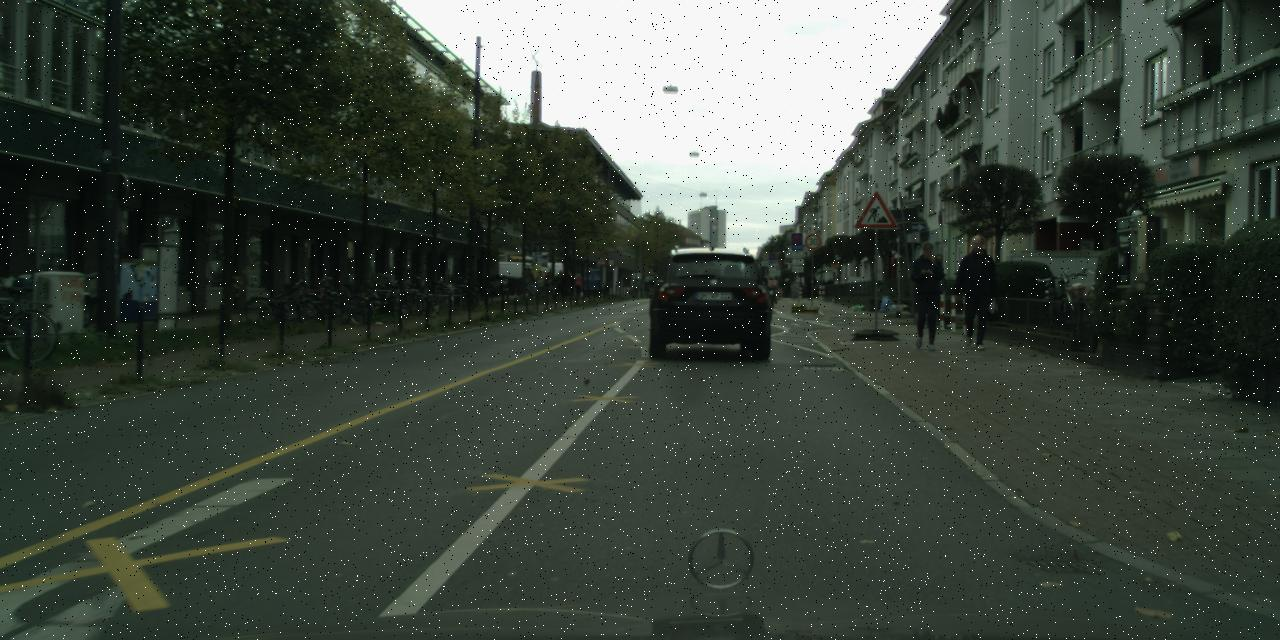ped: (953, 234, 999, 348), (904, 242, 948, 348), (922, 253, 952, 328)
